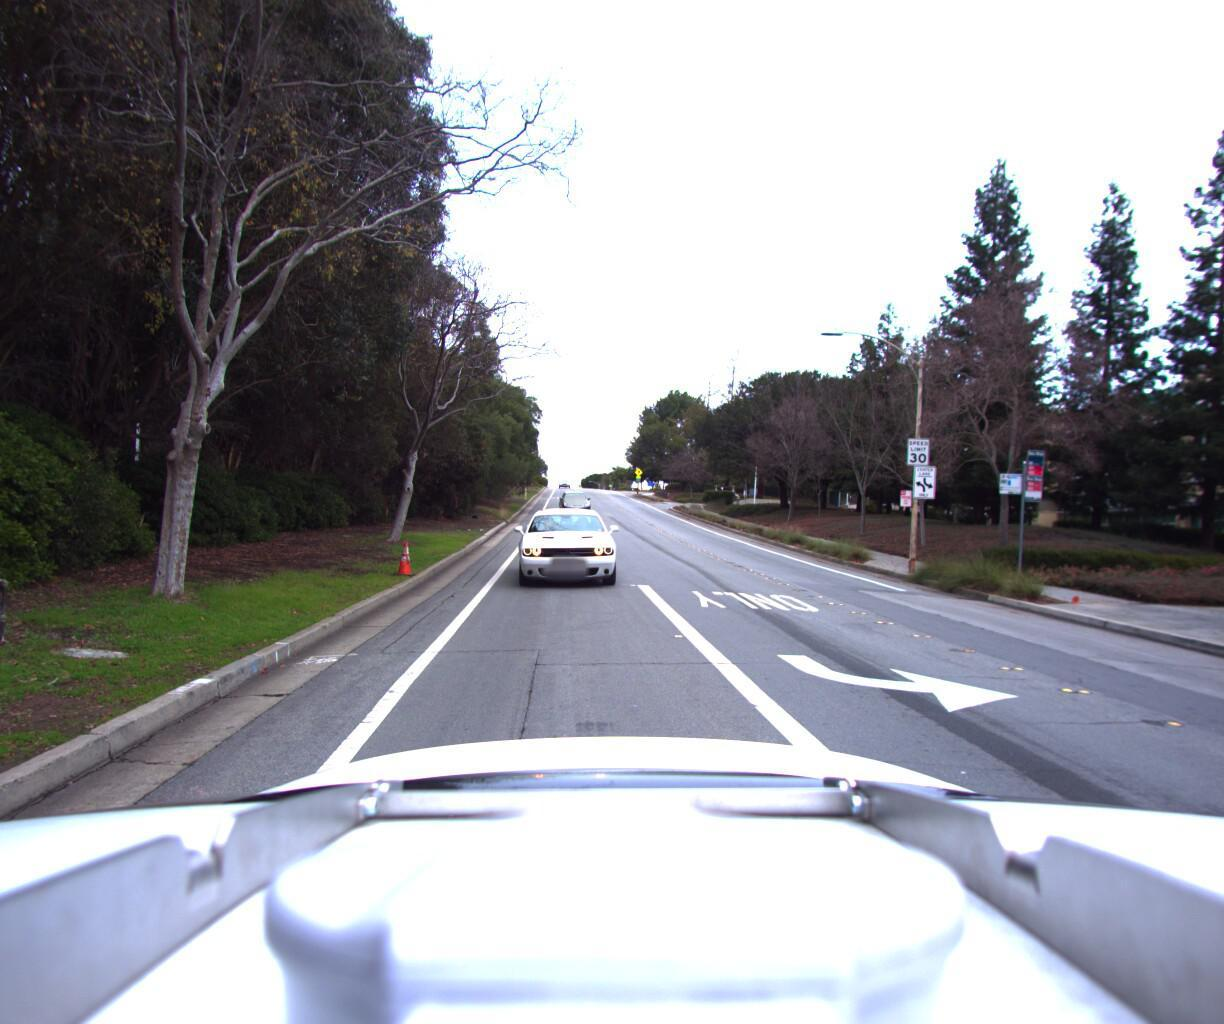car: (510, 505, 623, 604), (557, 493, 593, 521)
